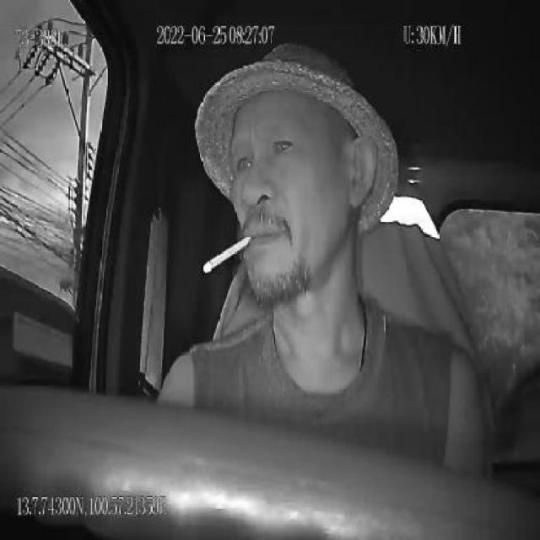smoking: (201, 235, 253, 279)
